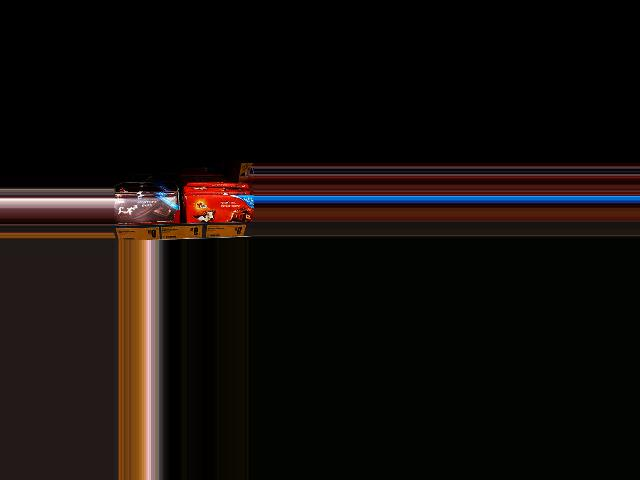chocolate: (113, 192, 173, 230)
